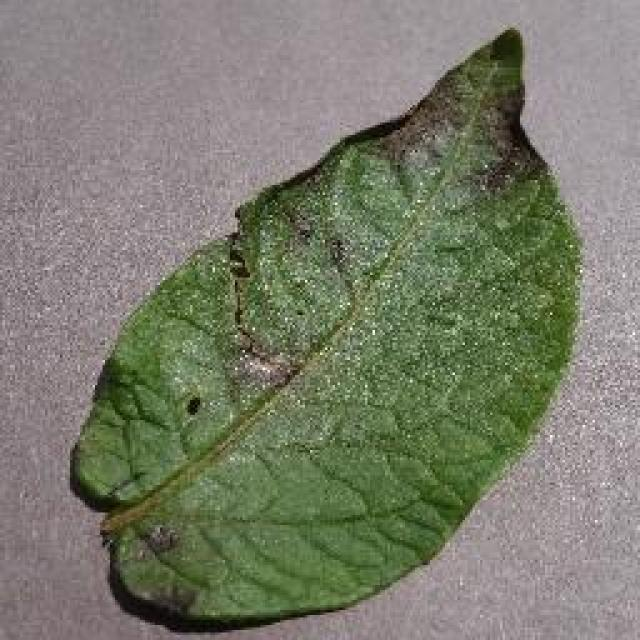Potato___Late_blight: (58, 12, 602, 640)
